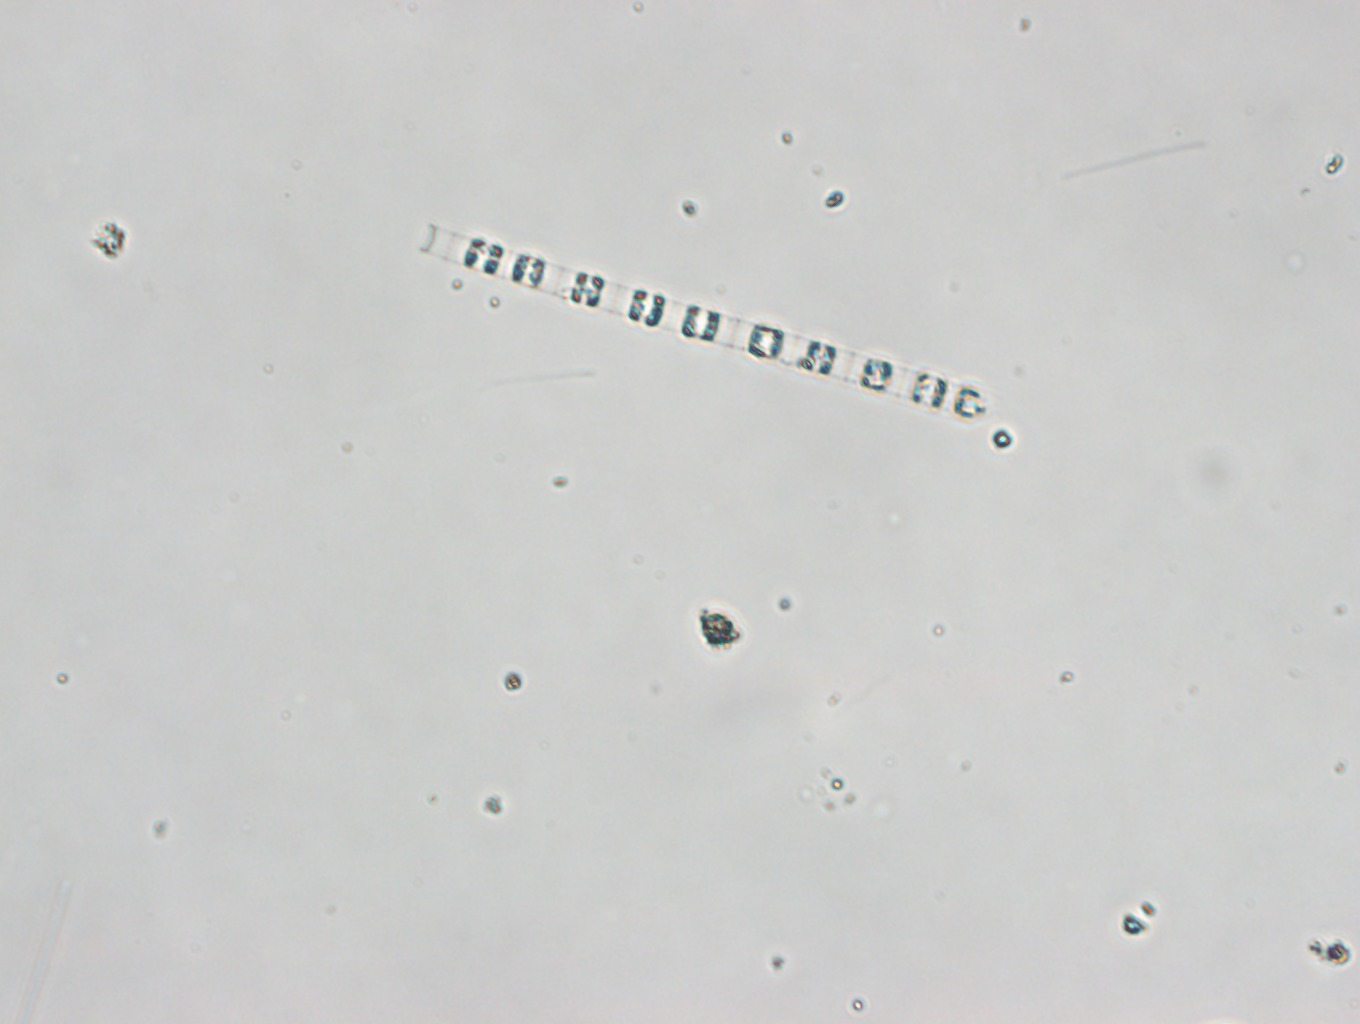skeletonema: (412, 225, 989, 422)
